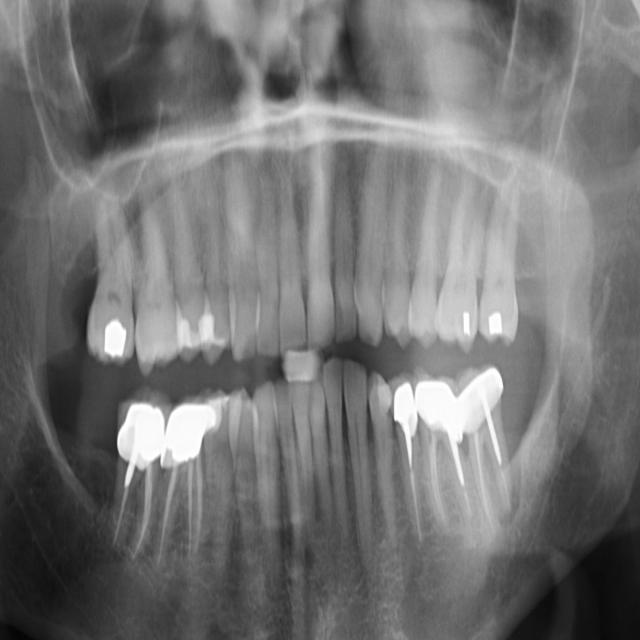infected-teeth: (154, 394, 216, 578), (109, 386, 164, 575), (412, 373, 474, 537), (458, 369, 513, 541), (391, 374, 426, 557)
